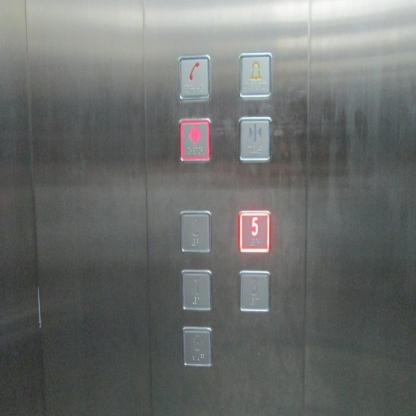1: (180, 266, 212, 312)
2: (178, 209, 212, 254)
3: (237, 267, 270, 313)
5: (238, 208, 272, 256)
G: (180, 323, 214, 368)
alarm: (237, 49, 273, 100)
call: (176, 53, 212, 102)
close: (236, 114, 274, 163)
open: (177, 116, 212, 162)
